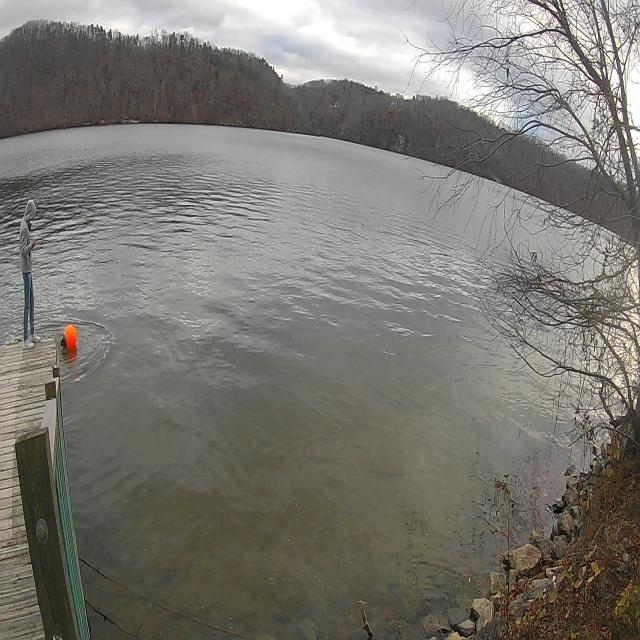Buoy: (61, 319, 79, 360)
